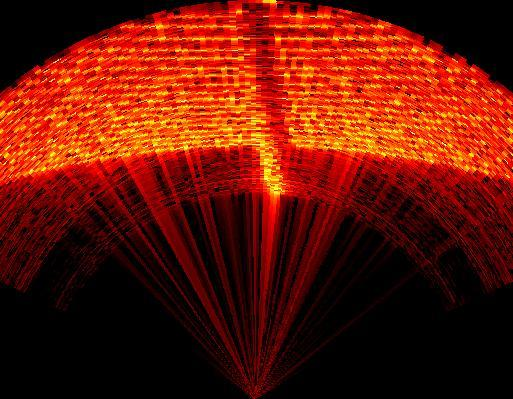pipe: (224, 4, 305, 203)
